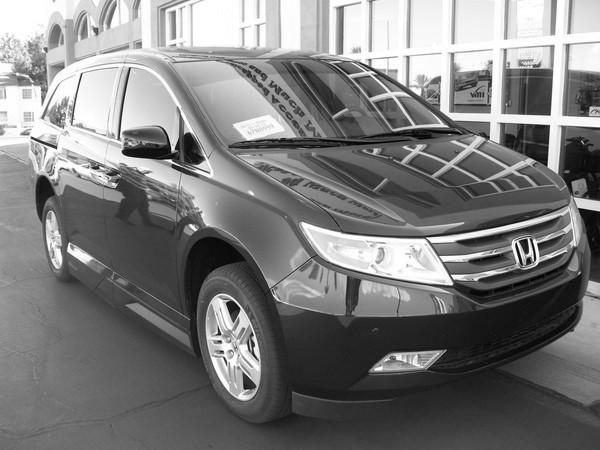car: (28, 47, 593, 429)
